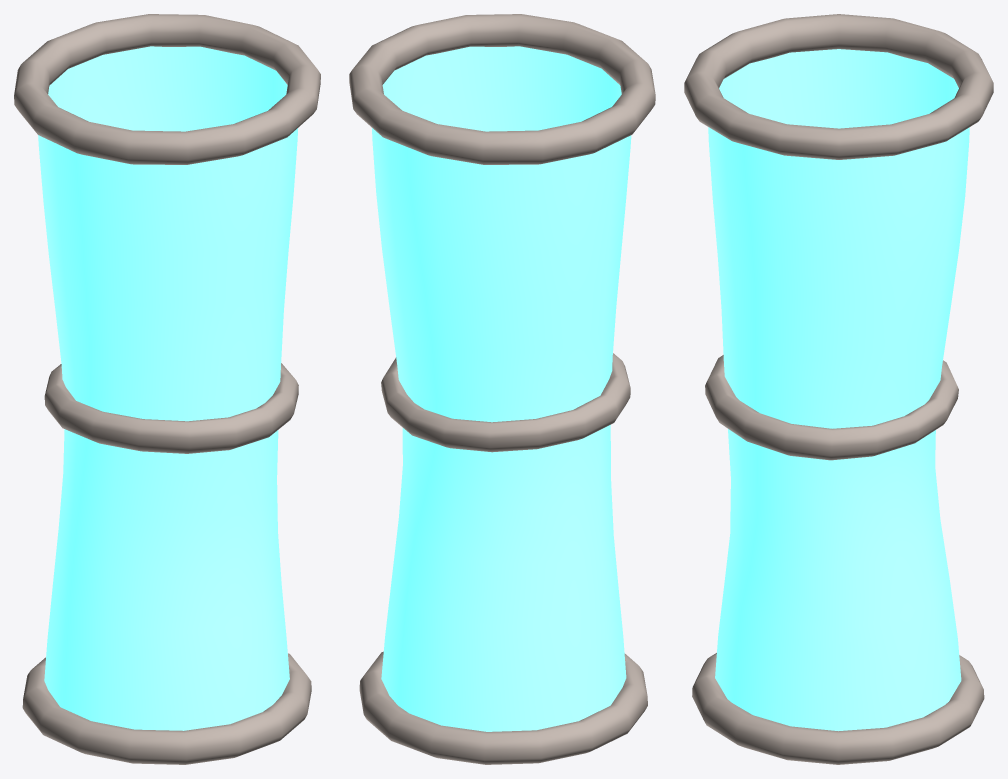
Rendered from SM_Lift_04.fbx.
3 views of the same model, side by side, from view 1: azimuth 30°, elevation 25°; view 2: azimuth 150°, elevation 25°; view 3: azimuth 270°, elevation 25° (orthographic).
Visible parts, largest first — view 1: SM_Lift_04; view 2: SM_Lift_04; view 3: SM_Lift_04.
Part boxes in pixels (x1,y1,x2,y2): SM_Lift_04: (14, 14, 320, 764); SM_Lift_04: (349, 14, 655, 764); SM_Lift_04: (684, 14, 993, 764).
Bounding box in the file's own units: 1100 × 2500 × 1100.
